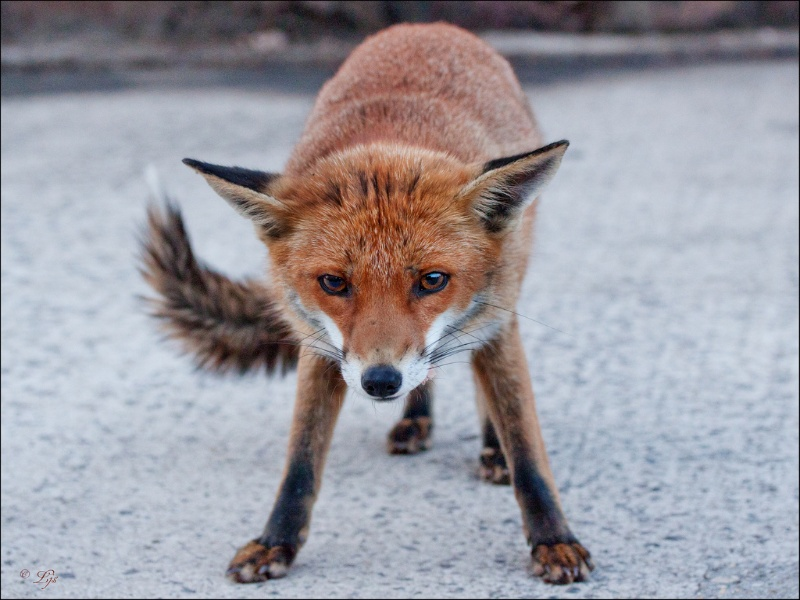fox: (136, 21, 600, 585)
